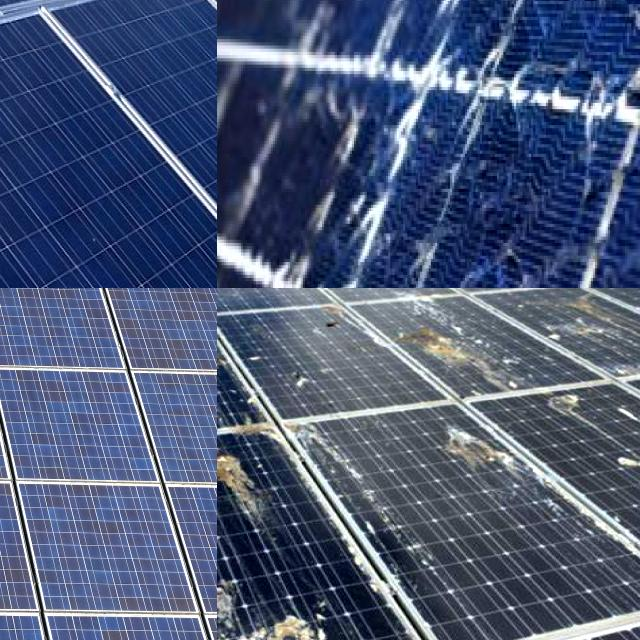bird: (426, 416, 554, 492), (378, 332, 537, 390), (217, 580, 340, 640), (530, 288, 623, 342), (217, 451, 279, 522), (303, 290, 357, 332), (554, 388, 608, 428), (217, 342, 258, 393), (217, 391, 253, 434), (607, 447, 640, 485), (217, 332, 248, 370), (217, 552, 247, 576)
crack: (0, 31, 217, 288), (33, 0, 217, 288), (0, 368, 159, 484), (0, 476, 109, 621), (0, 362, 97, 500), (0, 359, 90, 493), (0, 475, 87, 607), (0, 472, 70, 626)
hotspot: (518, 76, 640, 288)
